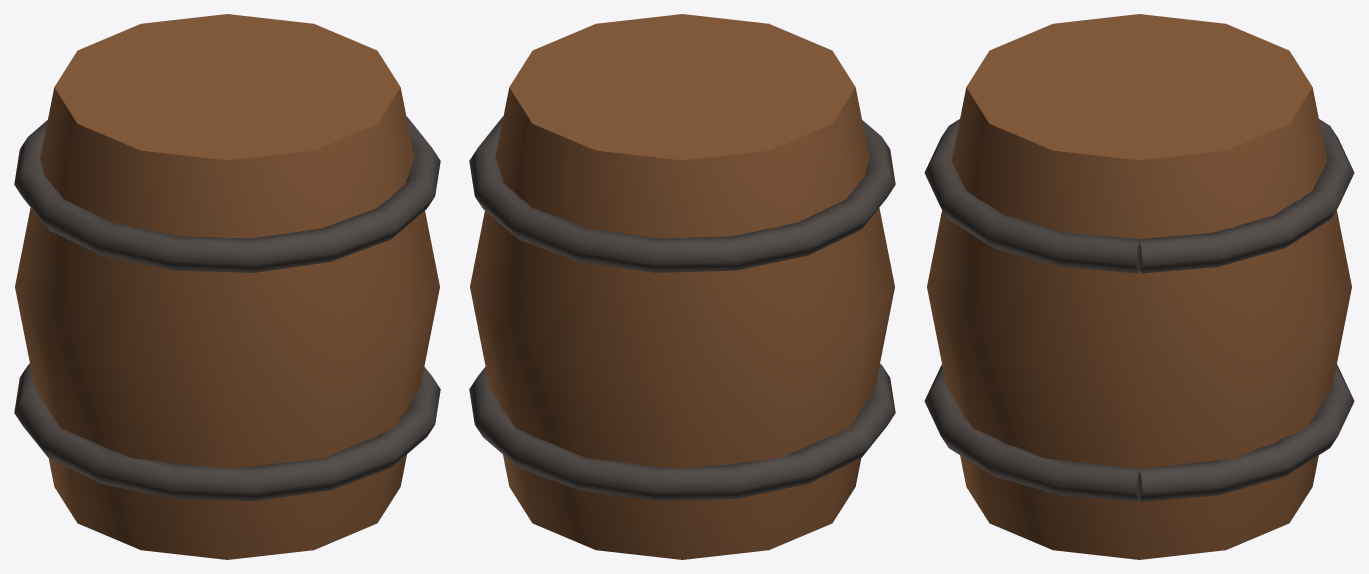
Rendered from cask.fbx.
3 views of the same model, side by side, from view 1: azimuth 30°, elevation 25°; view 2: azimuth 150°, elevation 25°; view 3: azimuth 270°, elevation 25° (orthographic).
Visible parts, largest first — view 1: cask; view 2: cask; view 3: cask.
Boxes of the visible parts, bbox=[...] form: cask: bbox=[14, 14, 440, 559]; cask: bbox=[469, 14, 895, 559]; cask: bbox=[924, 14, 1354, 559].
Size of the model in its own units: 0.0631 by 0.0647 by 0.0631.
